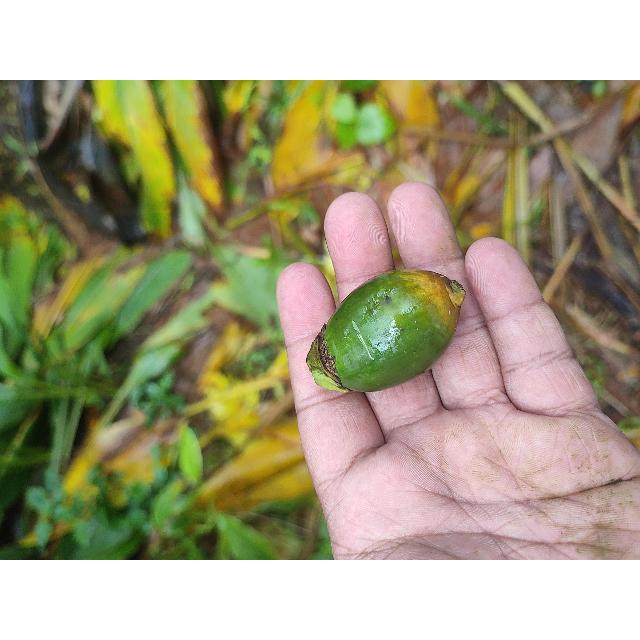good: (306, 270, 465, 394)
